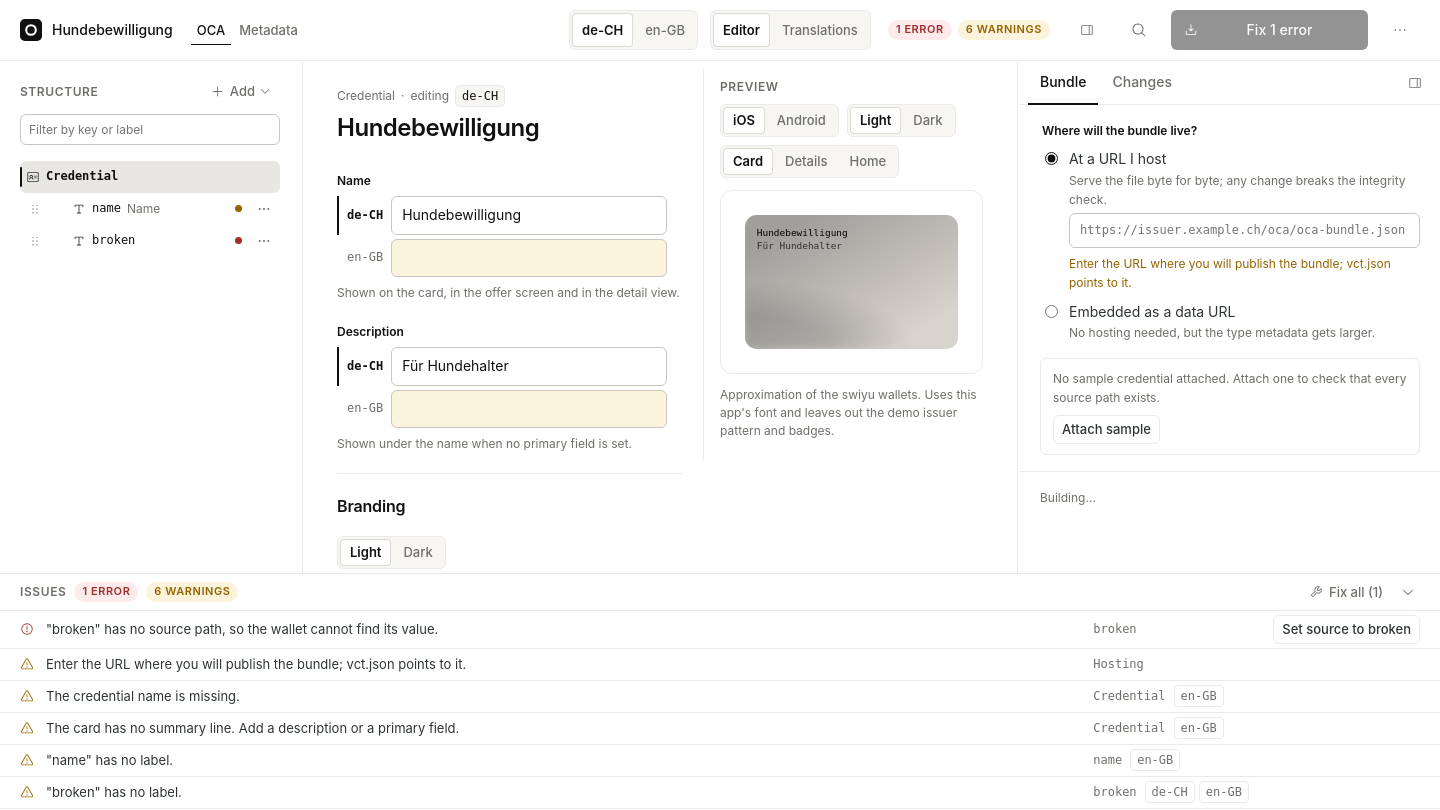
Scenario: Workspace › blocks the download while there are errors and links issues to fields
Expected: the text "1 error" next to "Issues" is shown, [82, 584, 130, 598]
Click the button "\"broken\" has no source path".
click(242, 629)  # box [46, 619, 1083, 640]
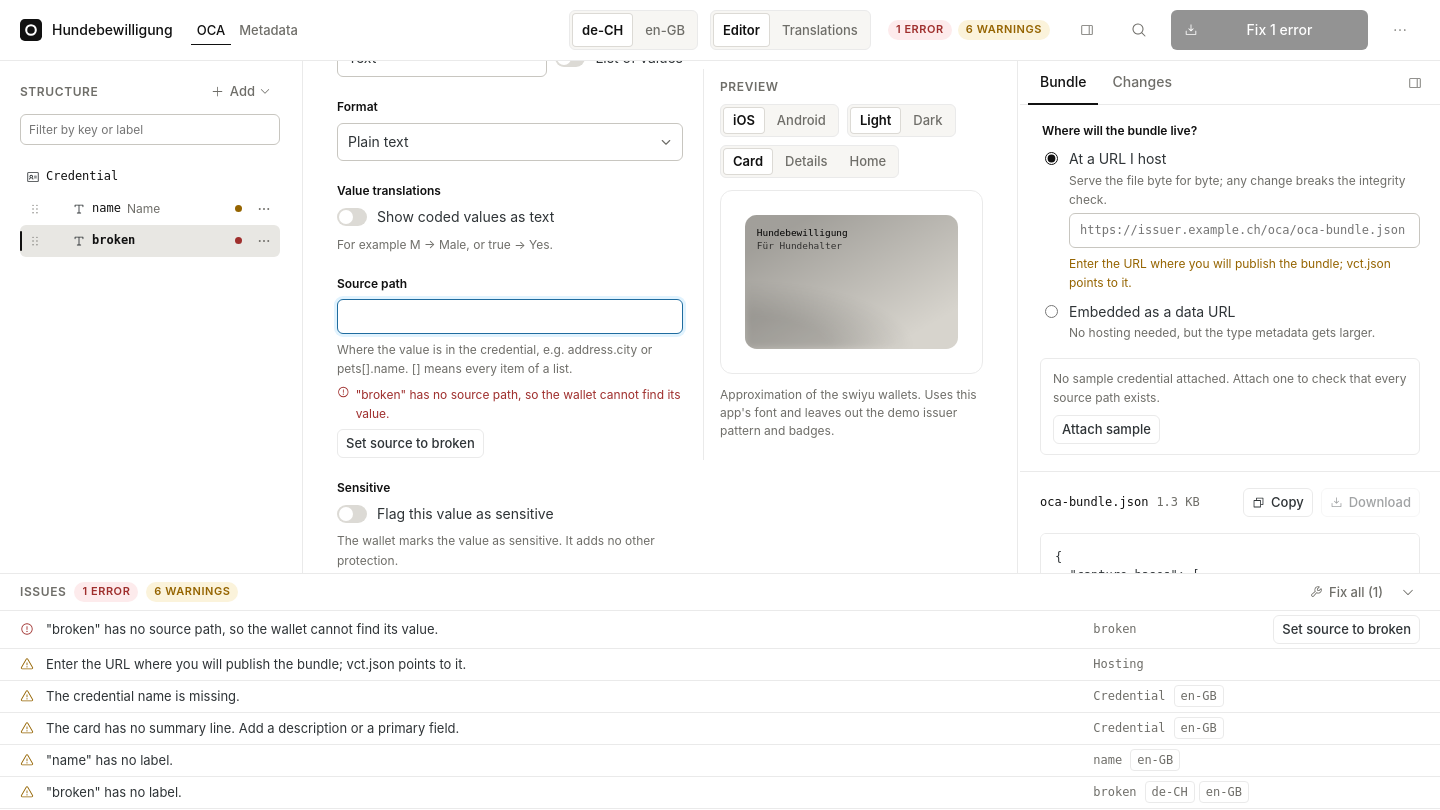
Type "broken" into the field labelled "Source path".
click(510, 317); type("broken")  # box [337, 299, 683, 334]
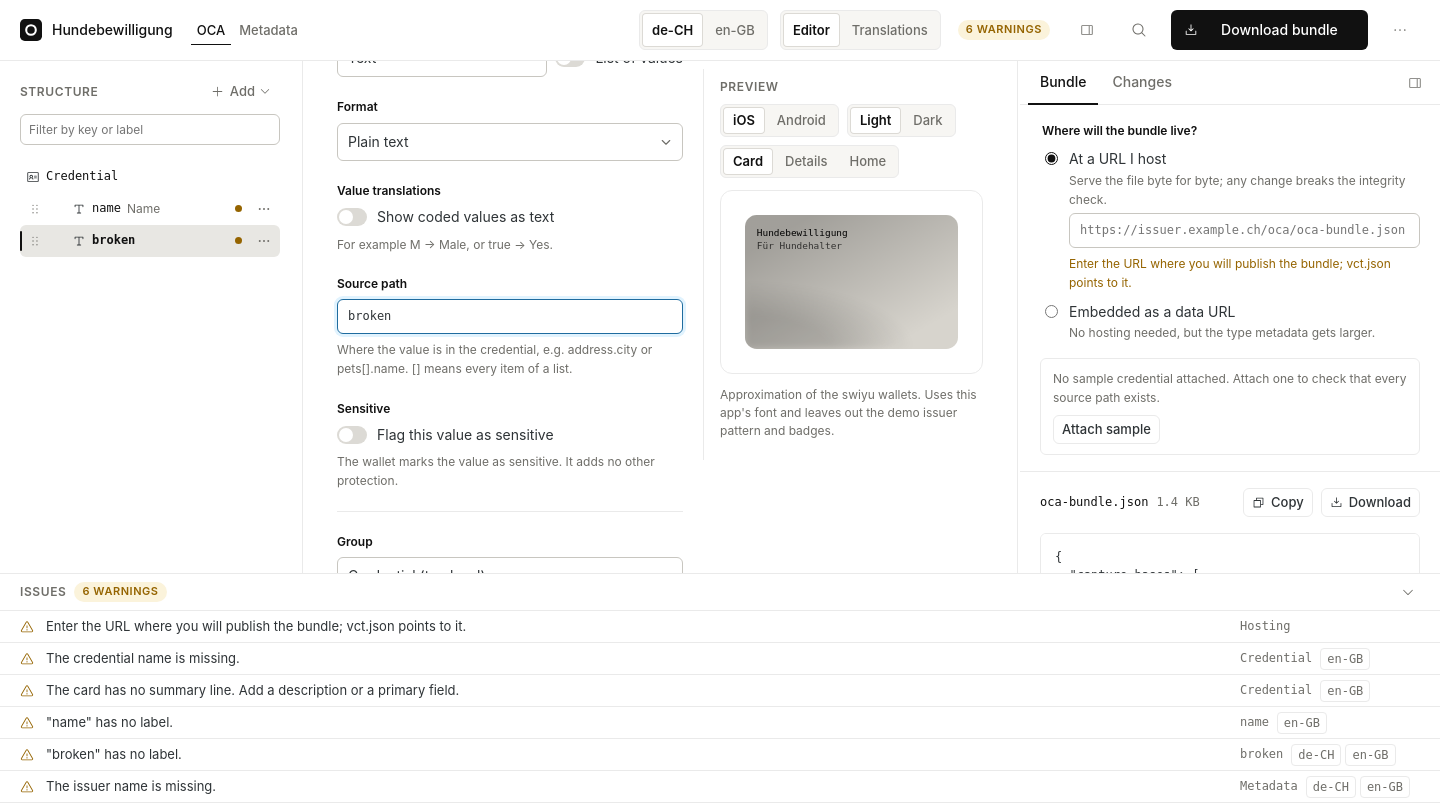
Expected: the text "1 error" is gone
